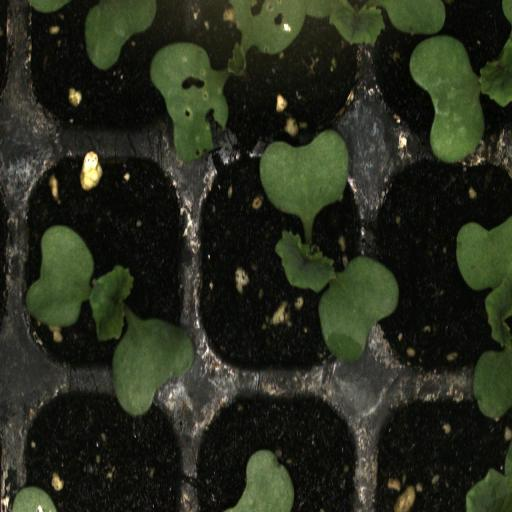seedling: (8, 153, 193, 380), (192, 155, 367, 382), (373, 156, 512, 384)
